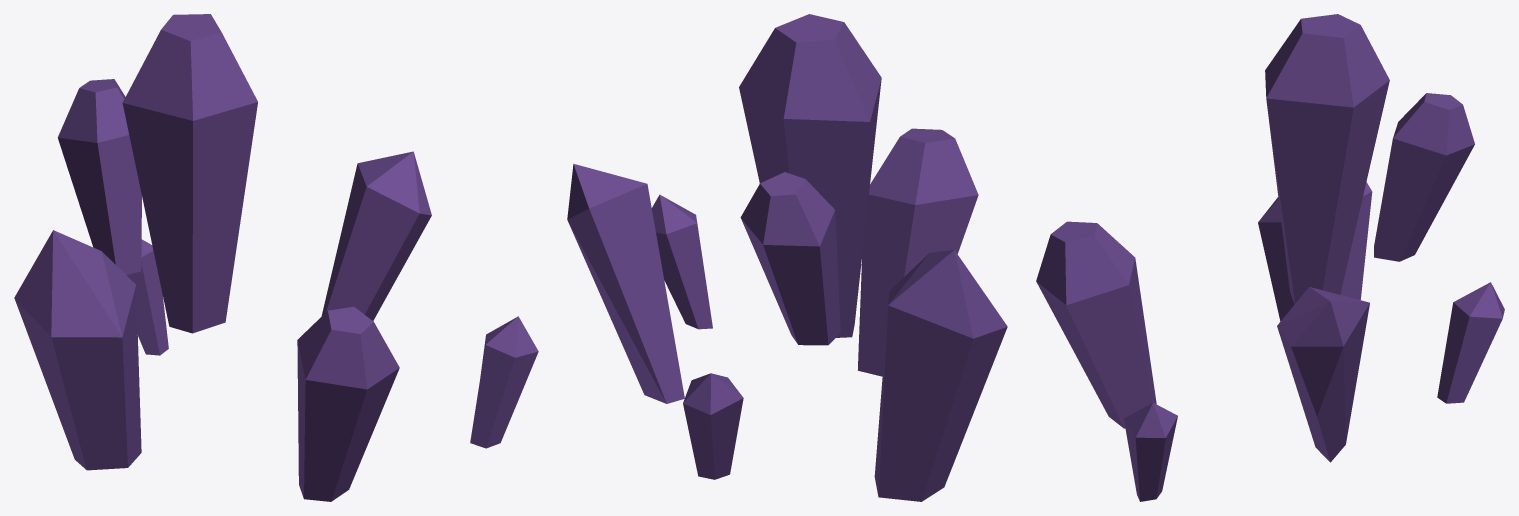
The model's file is CrystalOreC.fbx.
3 renders of one model, left to right at view 1: azimuth 30°, elevation 25°; view 2: azimuth 150°, elevation 25°; view 3: azimuth 270°, elevation 25°, orthographic. The views are drawn at different scales.
Parts seen in each view (by area): view 1: CrystalOreC; view 2: CrystalOreC; view 3: CrystalOreC.
Boxes of the visible parts, bbox=[...] form: CrystalOreC: bbox=[14, 14, 538, 501]; CrystalOreC: bbox=[567, 14, 1007, 501]; CrystalOreC: bbox=[1036, 14, 1504, 501].
Size of the model in its own units: 45.62 by 43.71 by 47.09.
